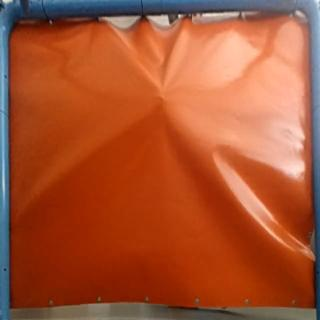Hit-hRxx: (153, 88, 172, 107)
